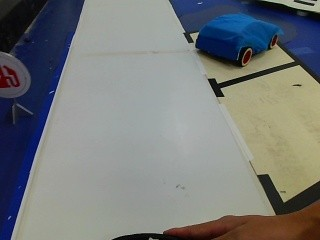battery: (1, 51, 31, 98)
car: (193, 10, 281, 70)
